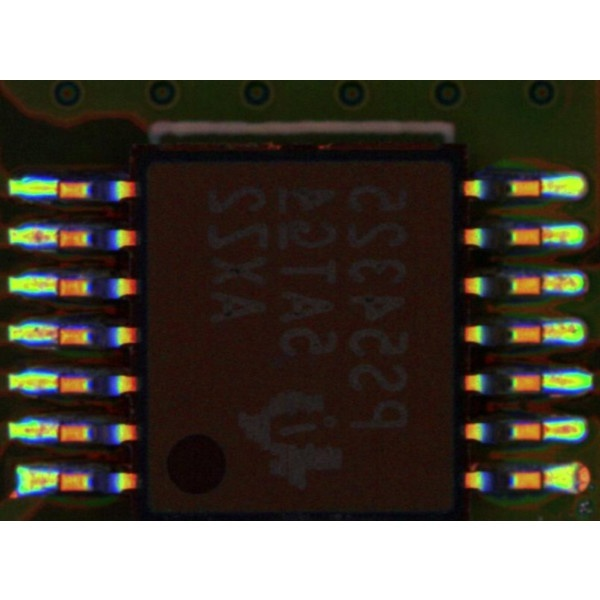Bad_podu: (532, 328, 558, 339), (50, 329, 66, 345), (532, 425, 555, 436), (51, 374, 65, 392), (530, 231, 555, 241)
